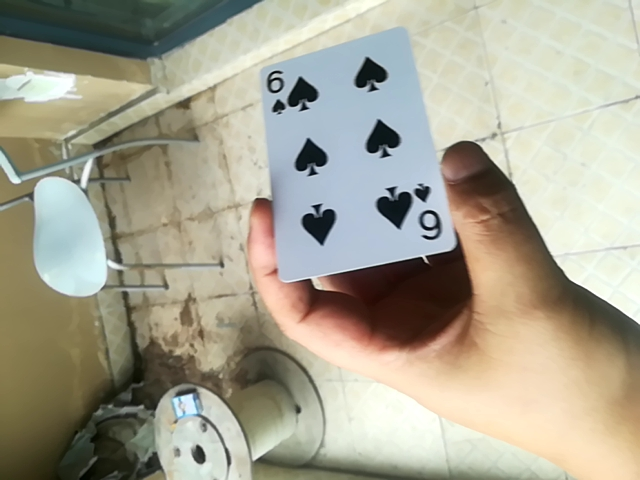ht 6: (260, 27, 452, 284)
